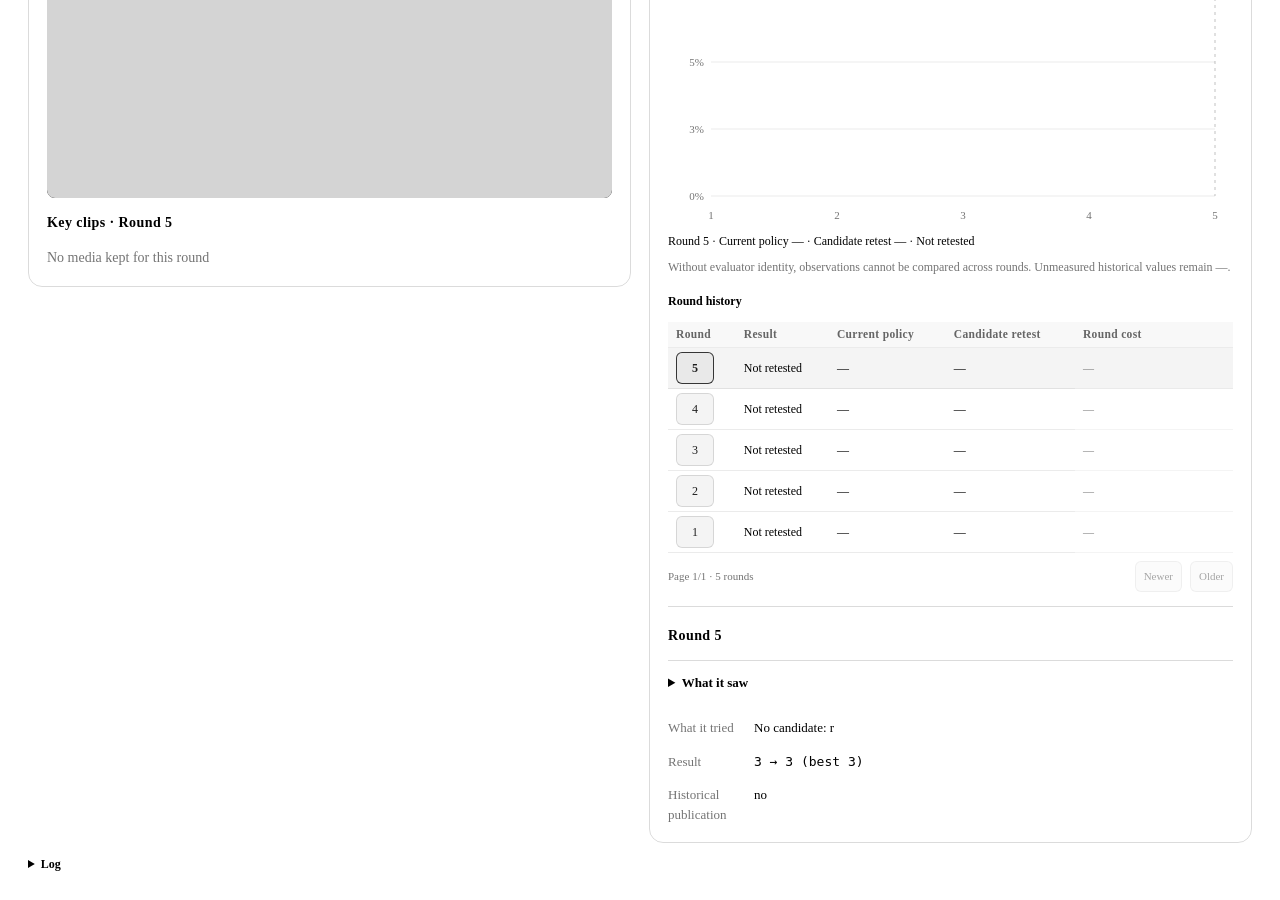
it: RsiView › round table selects details and does not treat historical publication as acceptance
The image size is (1280, 900).
(page scrolled)
Step 1. Click the button "3" → {"x": 695, "y": 450}, box [676, 434, 714, 466]
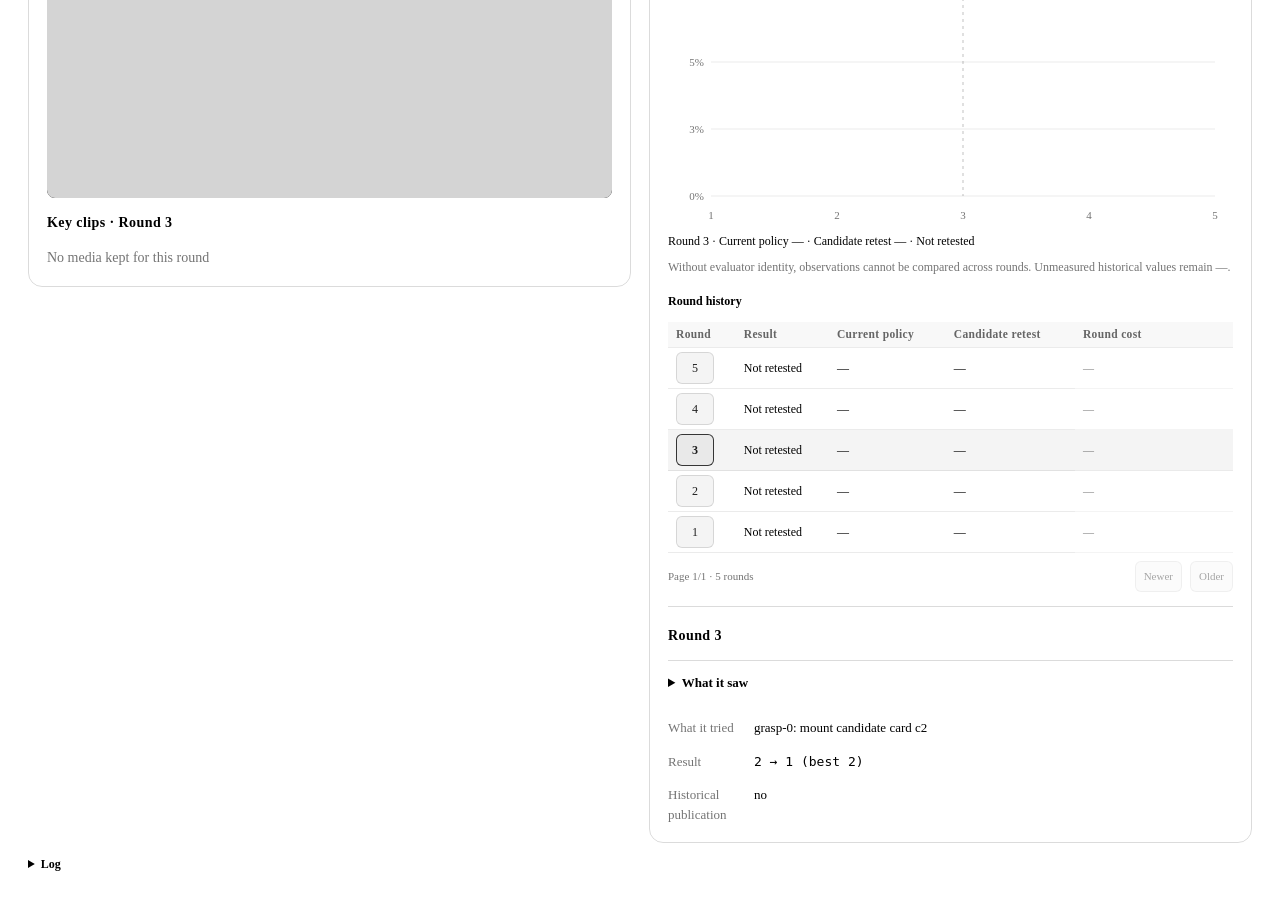
Expected: the text "2 → 1 (best 2)" is shown, [754, 754, 864, 769]
